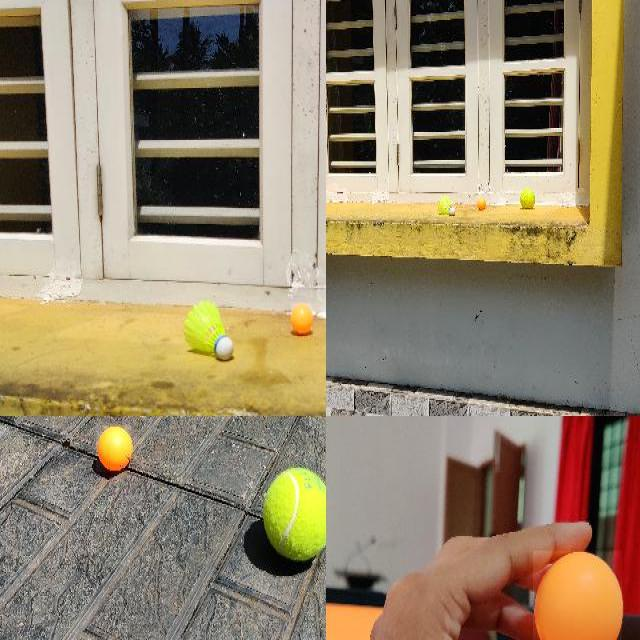ping-pong-ball: (533, 550, 624, 638), (96, 426, 132, 474), (291, 302, 313, 334), (477, 197, 485, 208)
